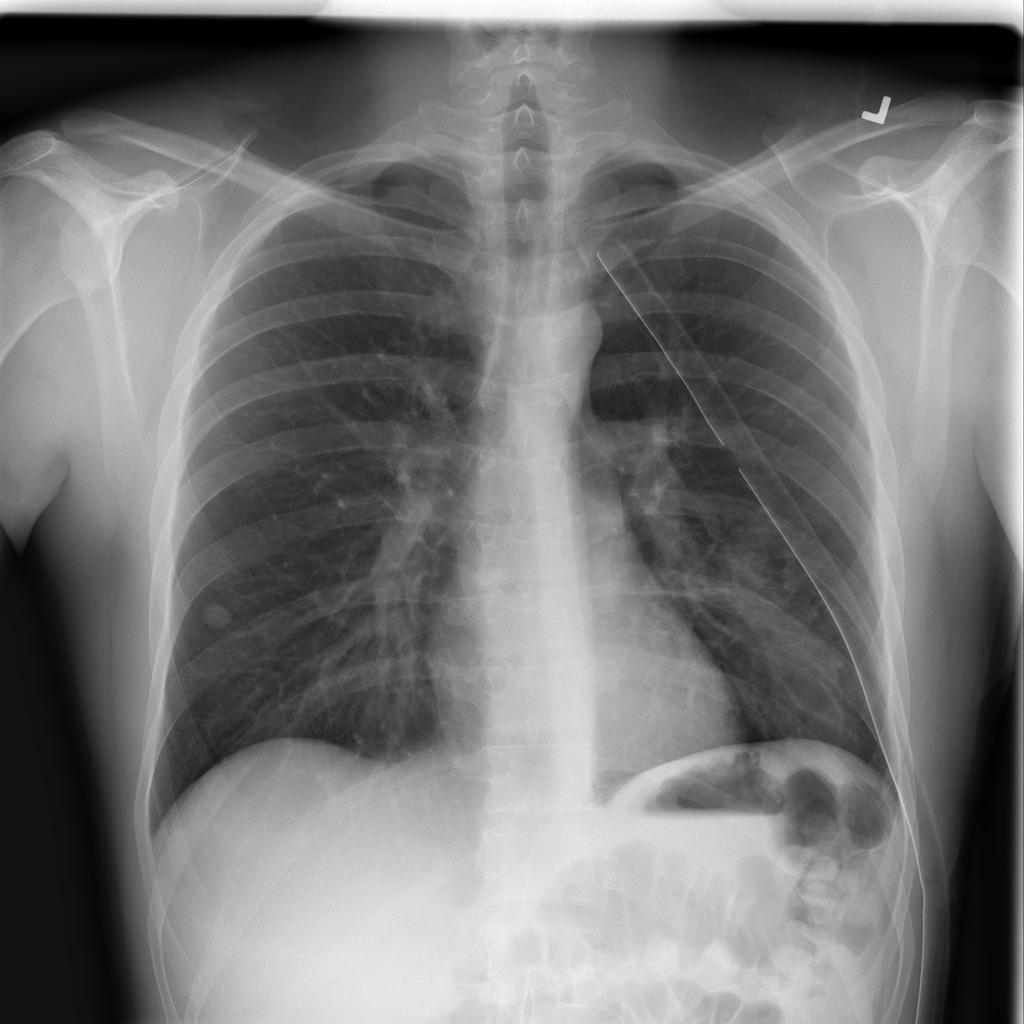nodule: (193, 594, 246, 641)
